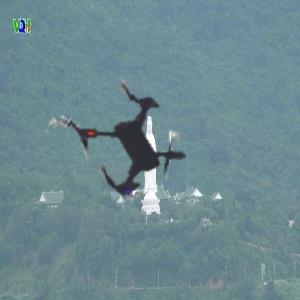drone: (16, 20, 258, 262)
